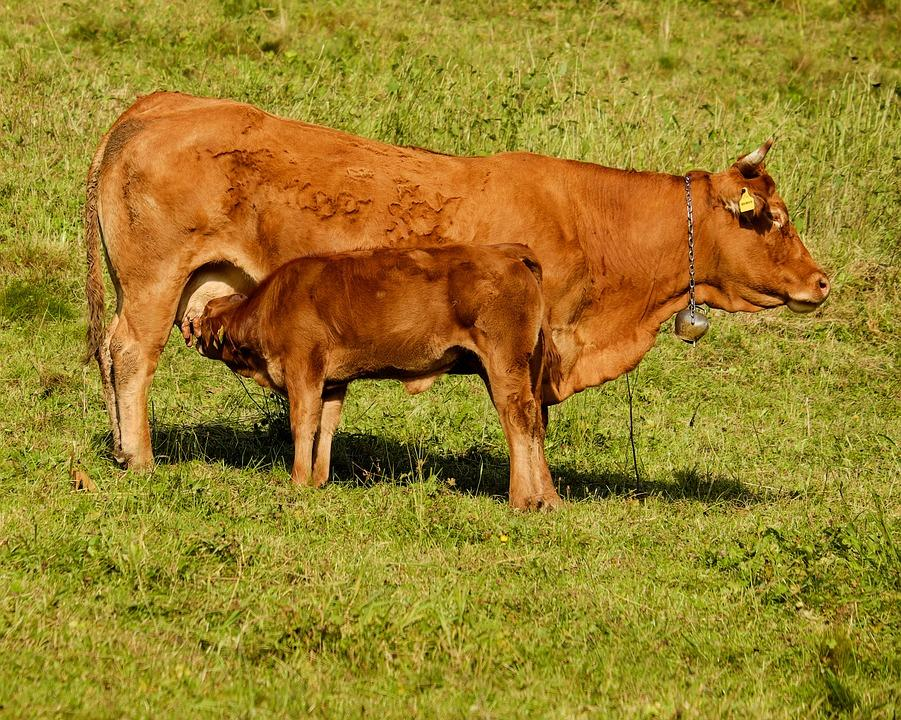cow: (86, 92, 828, 508)
